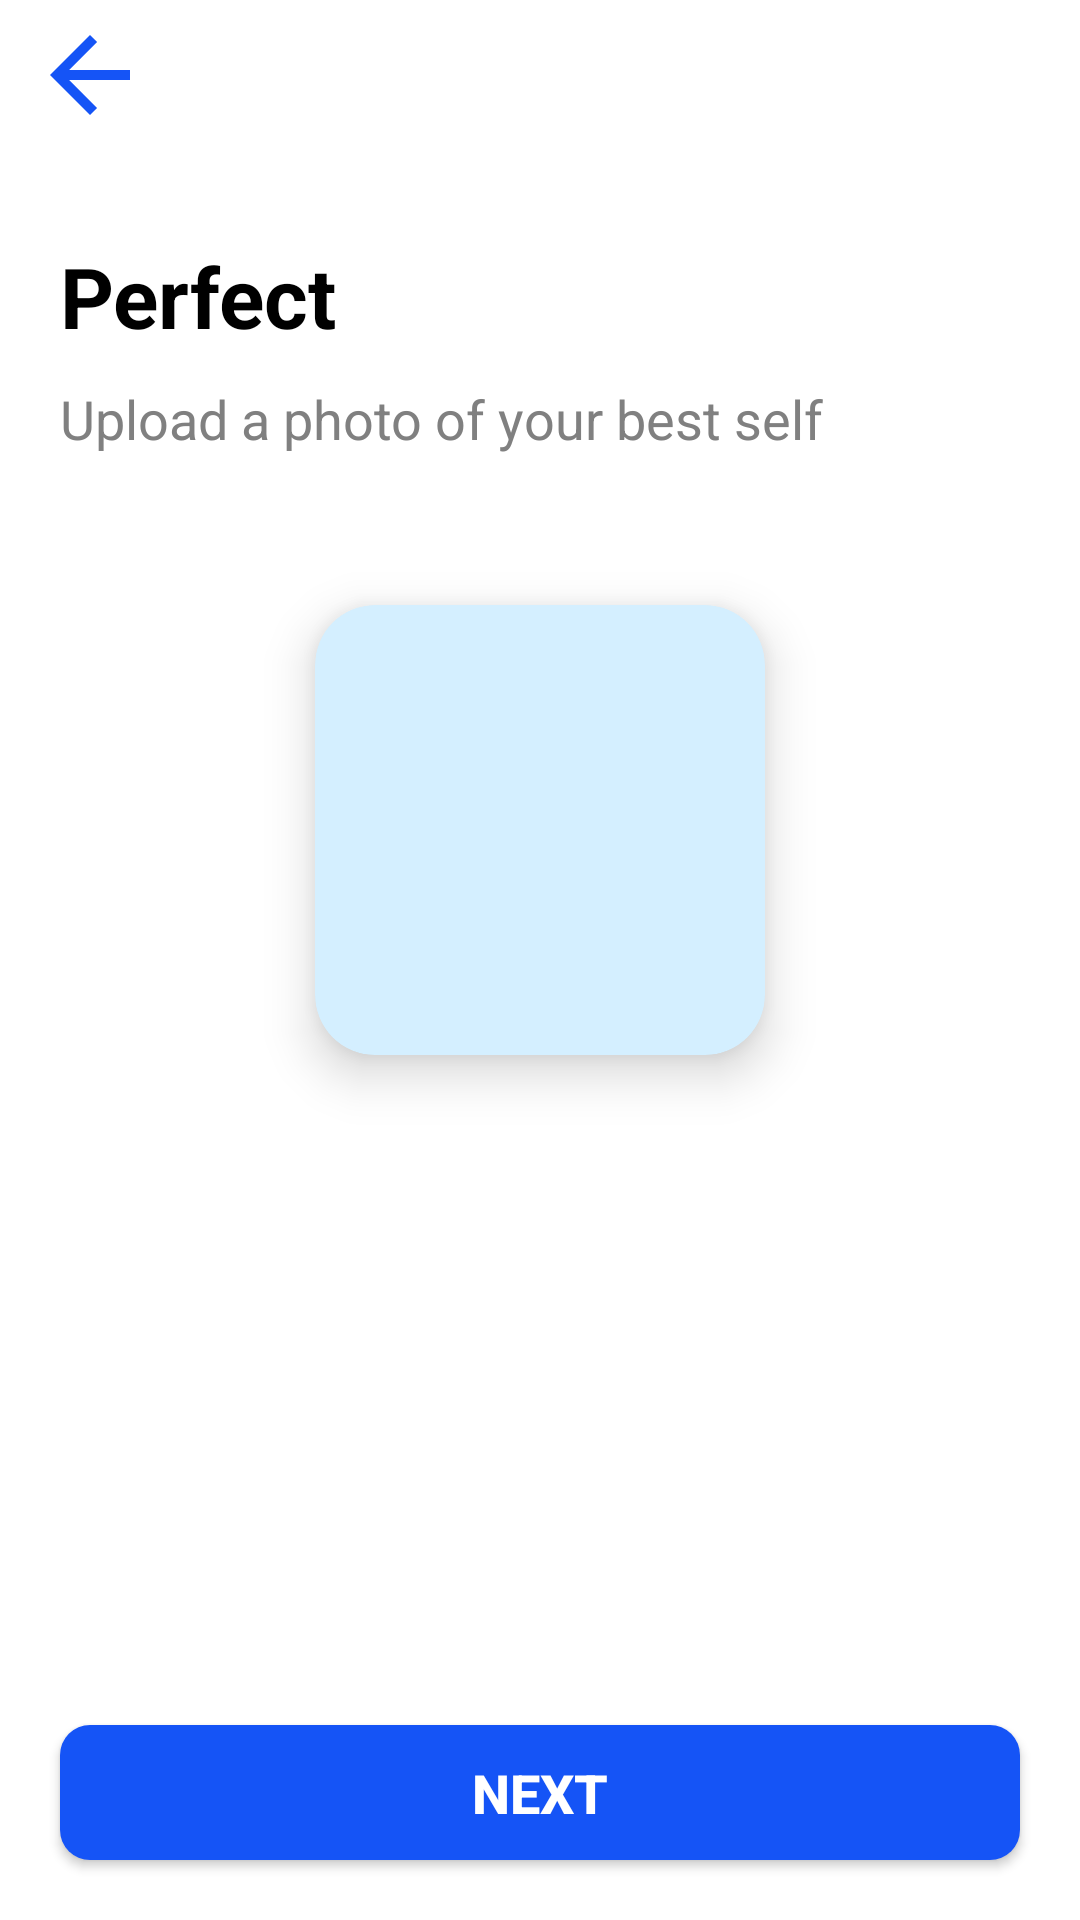

Named icons in this screenshot (1080x1920) and their bounding boxes, (x1, y1, x2, y2):
arrow back: (50, 35, 130, 115)
